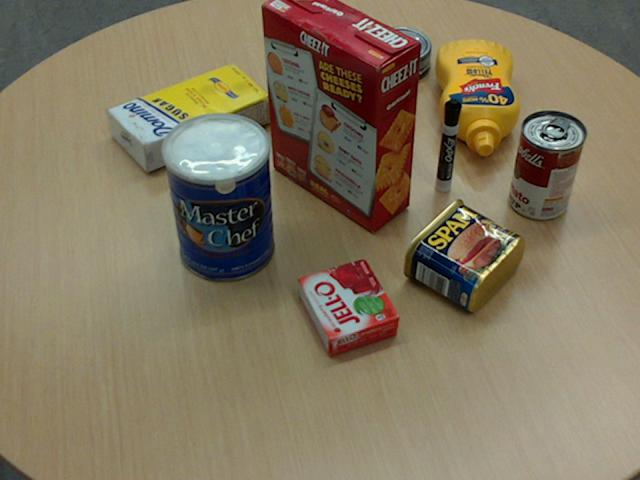cracker_box: (261, 0, 419, 231)
gelatin_box: (298, 258, 399, 354)
large_marker: (435, 99, 461, 191)
master_chef_can: (162, 112, 273, 282)
mug: (324, 34, 401, 126)
mustard_bottle: (434, 39, 518, 155)
potted_meat_can: (401, 197, 523, 310)
sugar_box: (106, 62, 271, 171)
tomato_soup_can: (509, 109, 585, 219)
tuna_fish_can: (366, 26, 430, 81)
